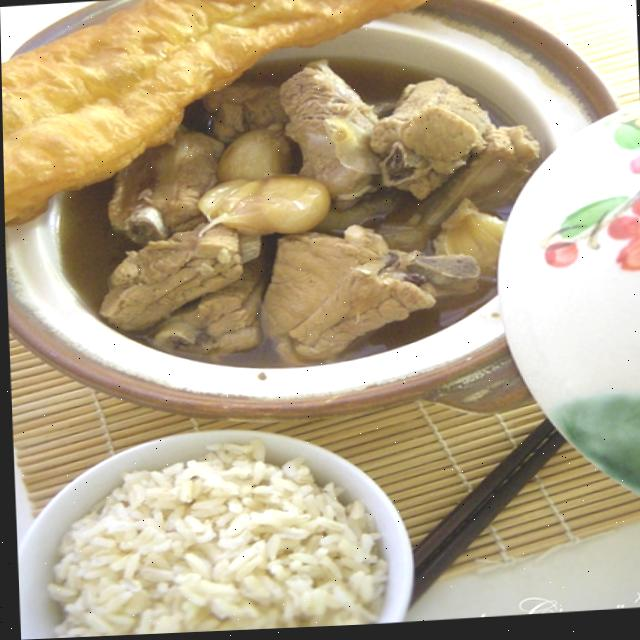汤锅炖物: (0, 0, 601, 399)
